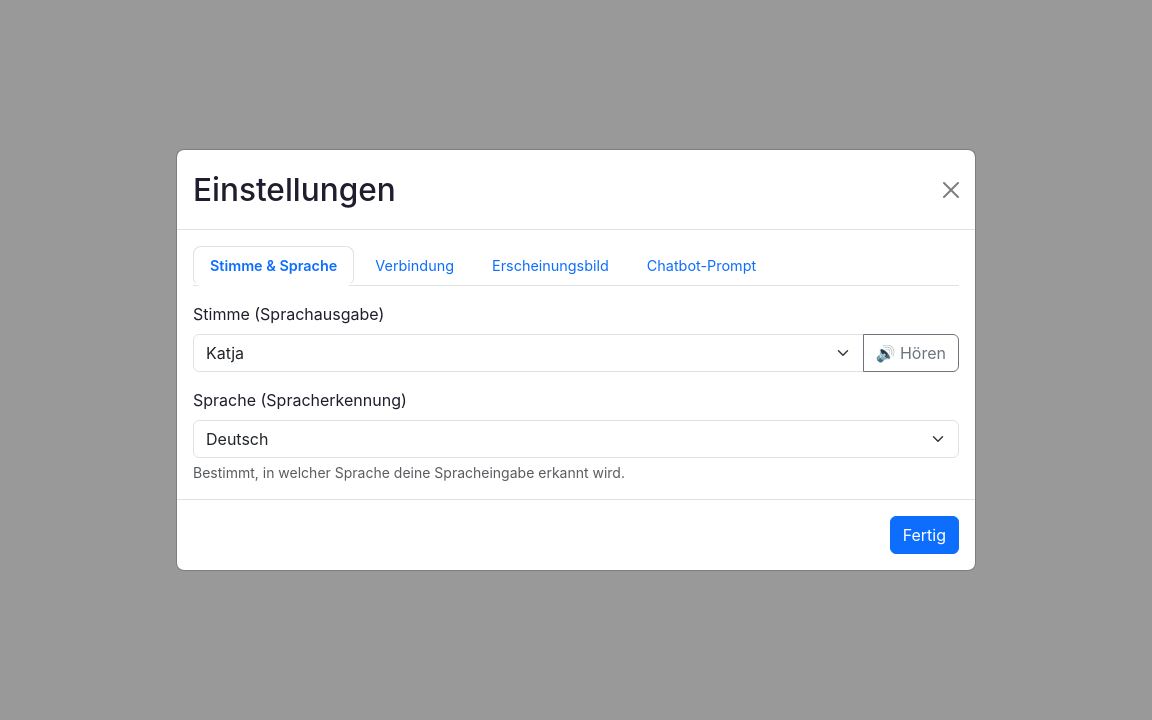
Settings › renders the "Verbindung" diagnostics tab and its content (Story-0037)
Click the tab "Verbindung" at [415, 266], box [358, 246, 471, 286]
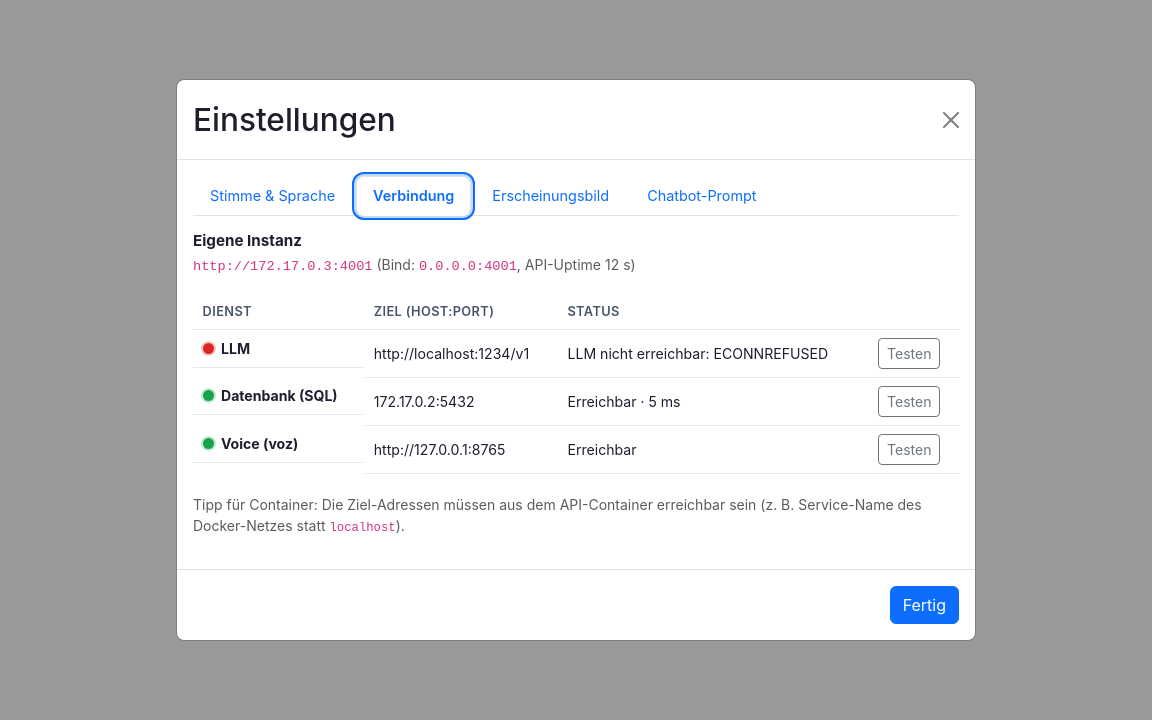
Result: the panel named "Verbindung" is shown at [193, 232, 959, 553]
Result: the heading "Eigene Instanz" is shown at [193, 231, 302, 250]
Result: the text "http://172.17.0.3:4001" is shown at [193, 259, 372, 274]
